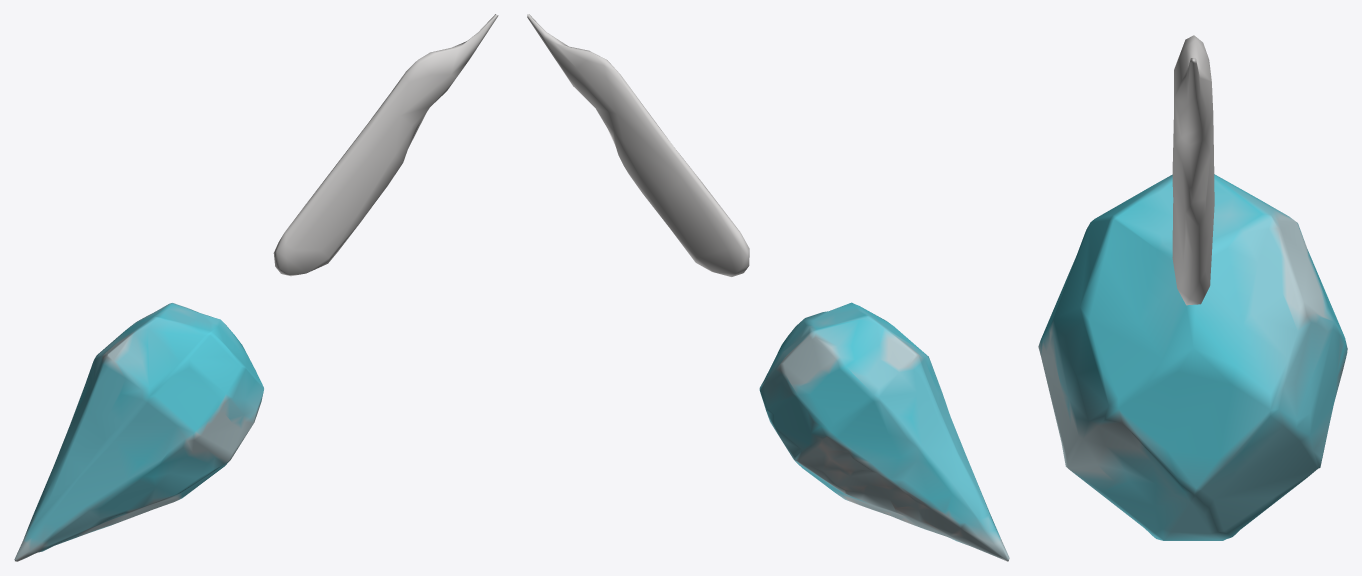
Rendered from gen3d-comet-lod0.glb.
3 renders of one model, left to right at view 1: azimuth 30°, elevation 25°; view 2: azimuth 150°, elevation 25°; view 3: azimuth 270°, elevation 25°, orthographic. The views are drawn at different scales.
Visible parts, largest first — view 1: part_0; view 2: part_0; view 3: part_0.
Boxes of the visible parts, box(x1,y1,x2,y2) form: part_0: box(14, 14, 498, 561); part_0: box(527, 14, 1009, 561); part_0: box(1038, 35, 1347, 540).
Bounding box in the file's own units: 1.17 × 0.9975 × 0.325.
